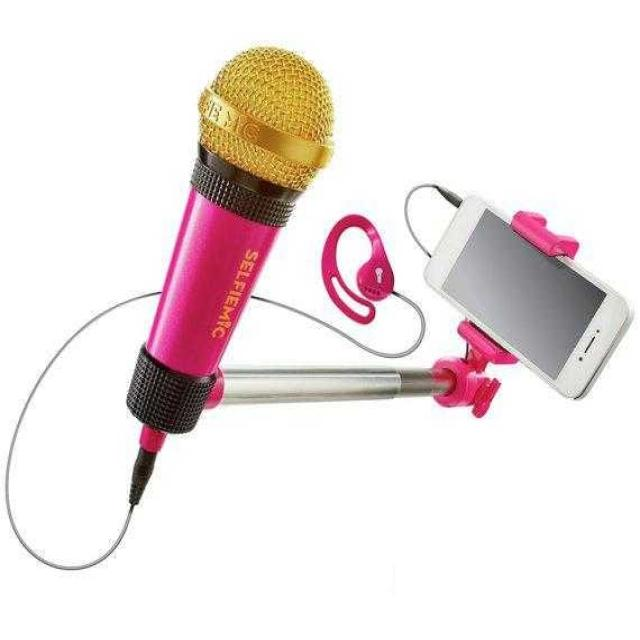microphone: (151, 41, 343, 351)
